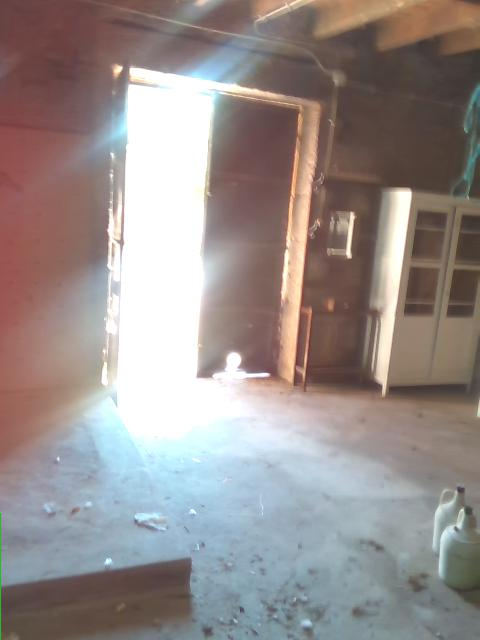open_door: (103, 64, 221, 400)
